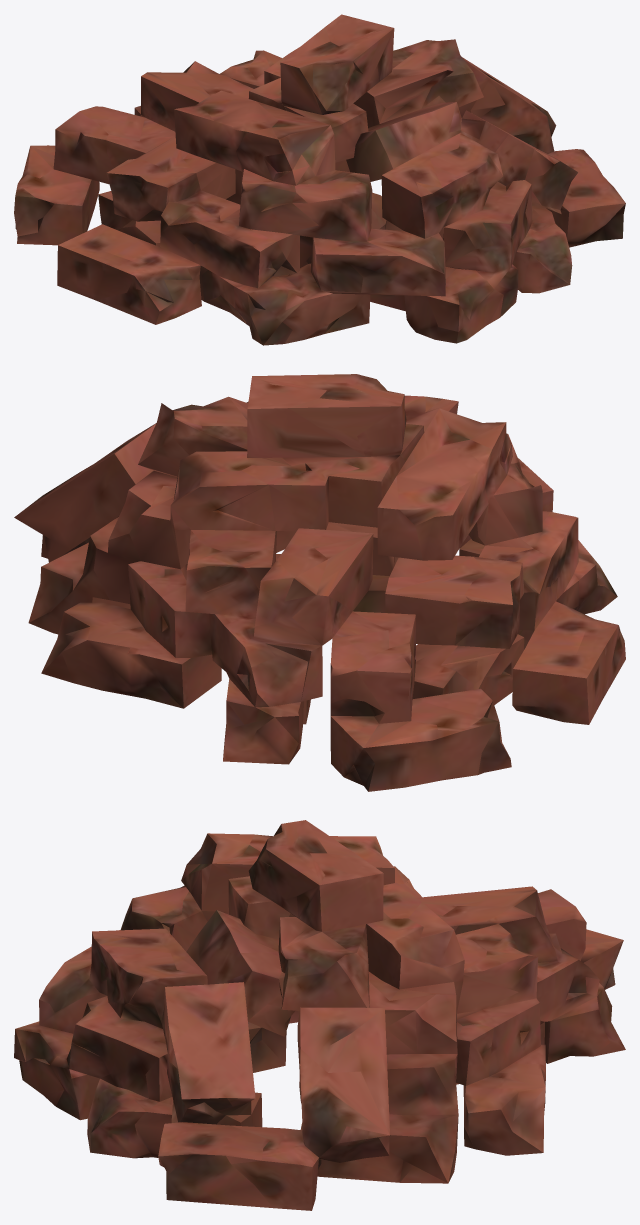
File: mat_rubble_bityy_kirpich_idle.glb
The picture shows the model from 3 angles, top to bottom: view 1: azimuth 30°, elevation 25°; view 2: azimuth 150°, elevation 25°; view 3: azimuth 270°, elevation 25°; orthographic projection. The views are drawn at different scales.
Visible parts, largest first — view 1: tripo_node_1a62185a-f863-47a9-823d-77120f22c371; view 2: tripo_node_1a62185a-f863-47a9-823d-77120f22c371; view 3: tripo_node_1a62185a-f863-47a9-823d-77120f22c371.
Part boxes in pixels (x1,y1,x2,y2): tripo_node_1a62185a-f863-47a9-823d-77120f22c371: [14, 14, 625, 345]; tripo_node_1a62185a-f863-47a9-823d-77120f22c371: [14, 374, 625, 791]; tripo_node_1a62185a-f863-47a9-823d-77120f22c371: [14, 820, 625, 1210].
Bounding box in the file's own units: 0.3803 × 0.15 × 0.3621.
Materials: 1 (1 with a texture image).
